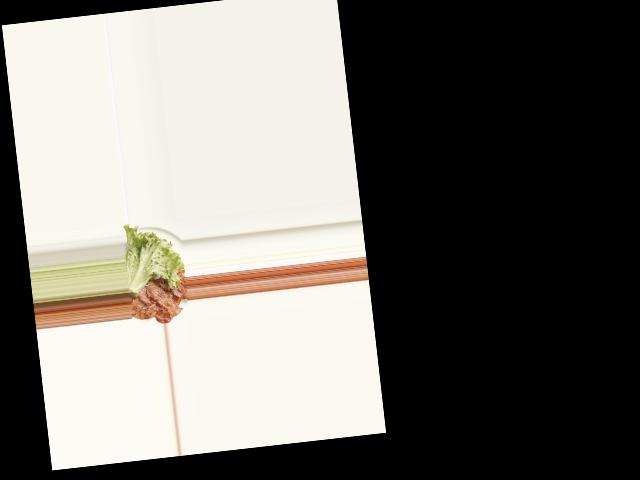lettuce: (121, 222, 184, 293)
